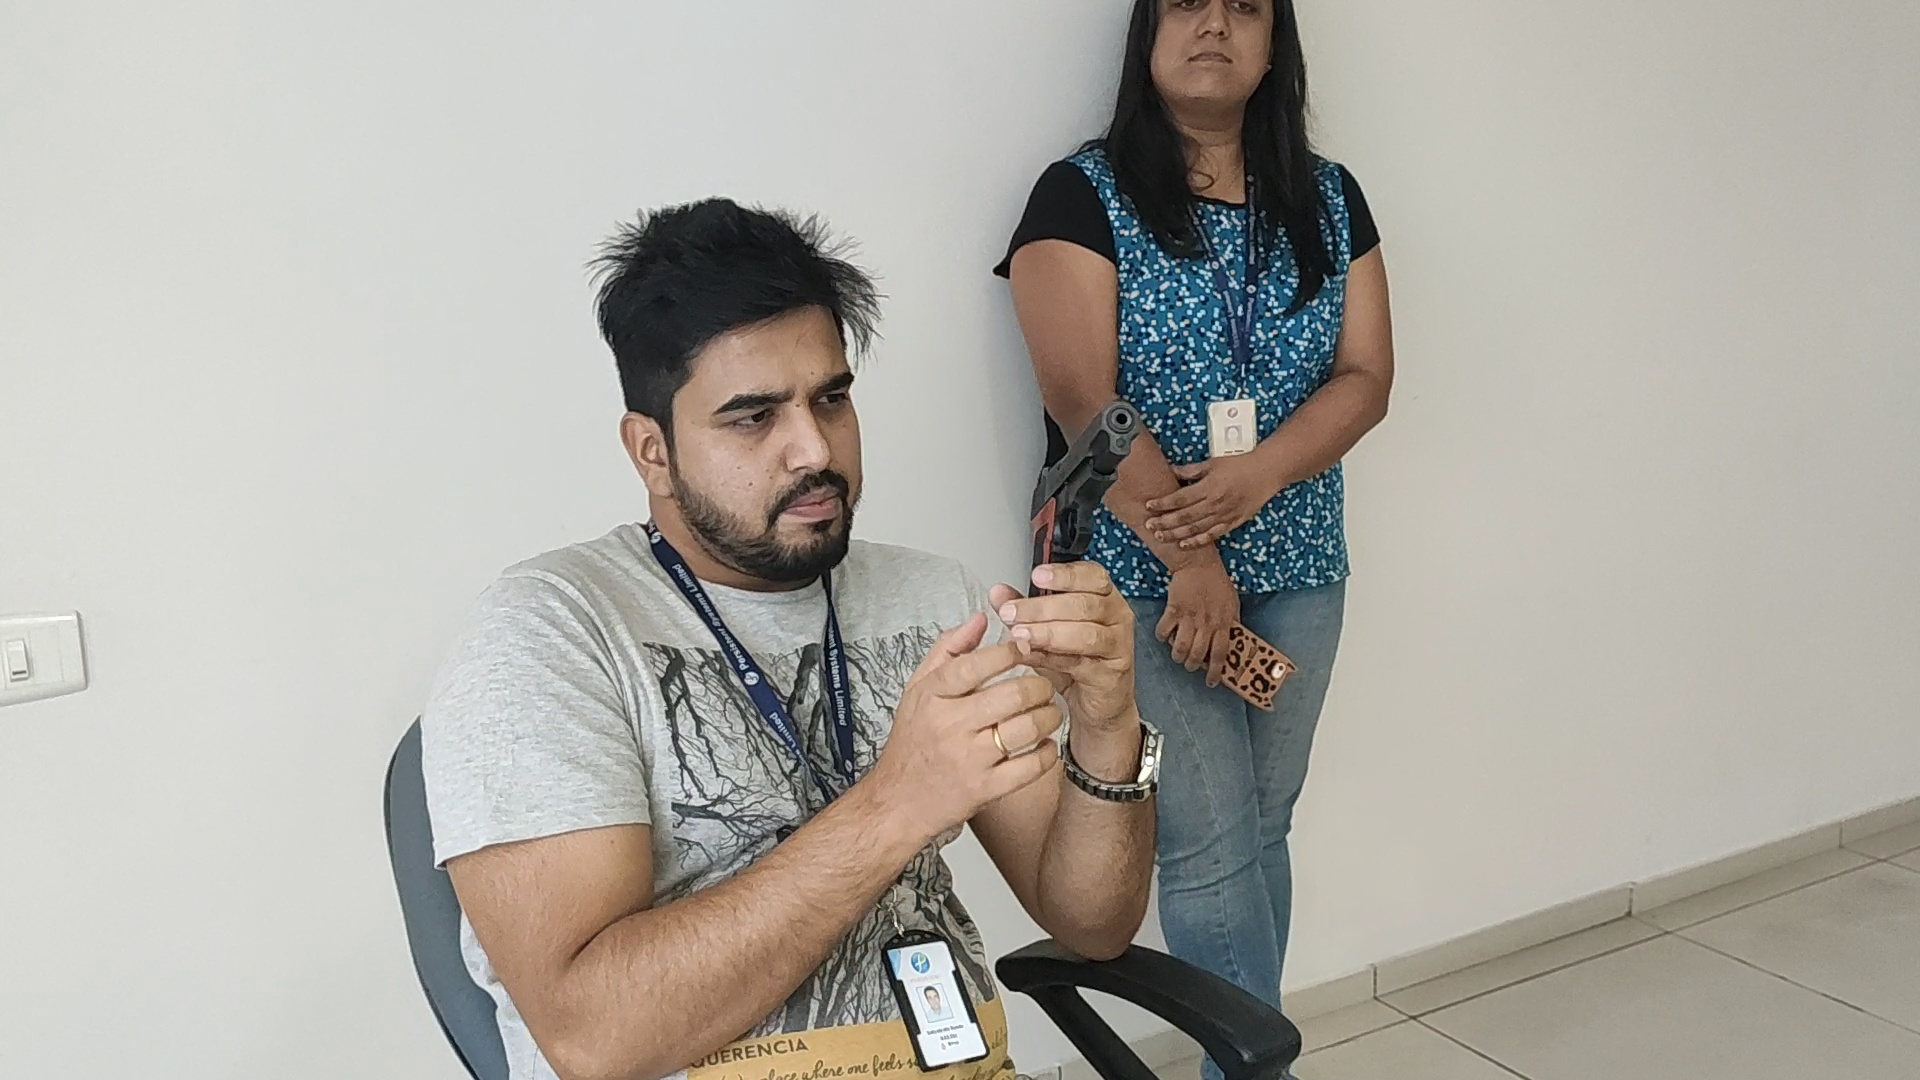gun: (1030, 400, 1141, 559)
